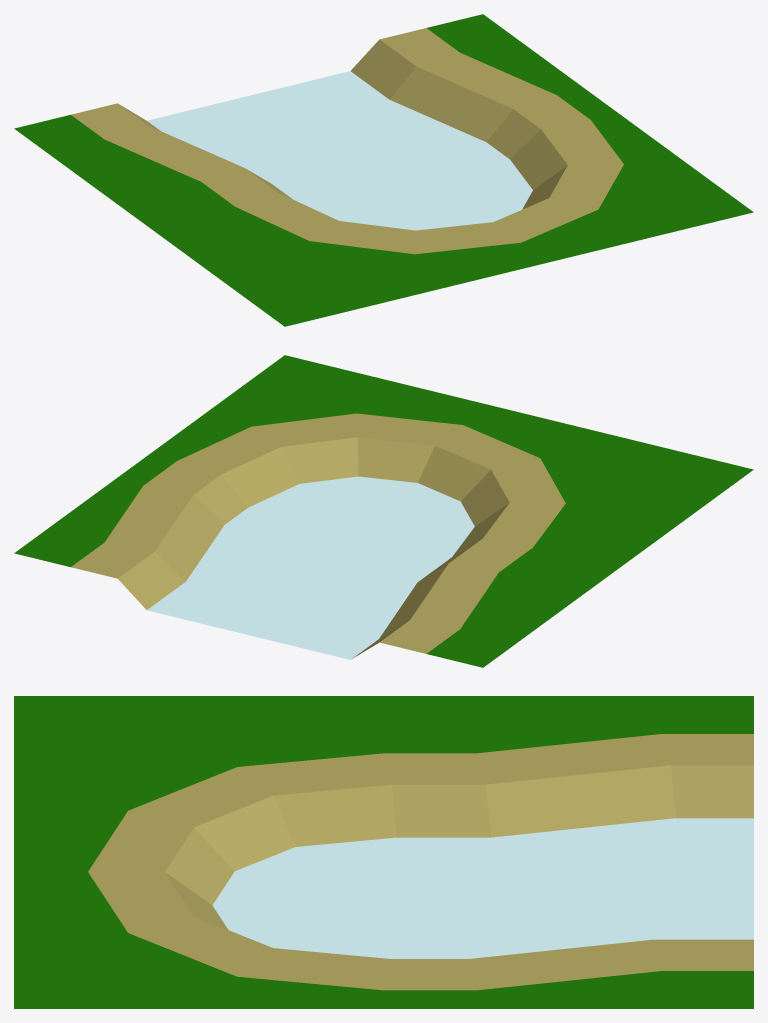
Rendered from ground_riverEndClosed.fbx.
3 renders of one model, top to bottom at view 1: azimuth 30°, elevation 25°; view 2: azimuth 150°, elevation 25°; view 3: azimuth 270°, elevation 25°, orthographic. The views are drawn at different scales.
Parts seen in each view (by area): view 1: ground_riverEndClosed; view 2: ground_riverEndClosed; view 3: ground_riverEndClosed.
Part boxes in pixels (<box>): ground_riverEndClosed: <box>14,14,753,326</box>; ground_riverEndClosed: <box>14,355,753,667</box>; ground_riverEndClosed: <box>14,696,753,1008</box>.
Size of the model in its own units: 100 by 5 by 100.
